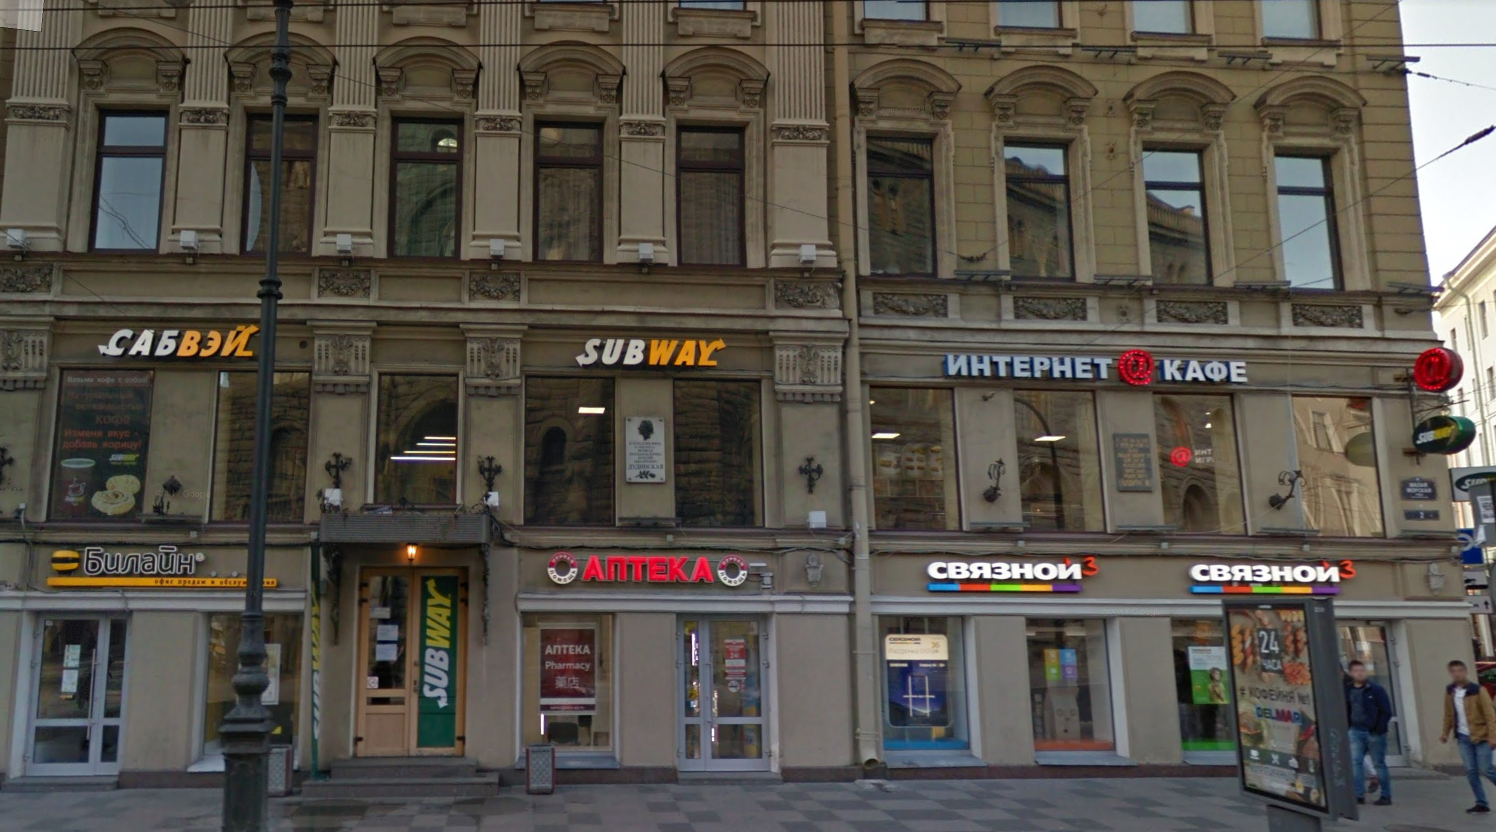cantilever: (1389, 337, 1479, 475)
door: (356, 565, 462, 760), (20, 608, 123, 785), (678, 610, 773, 777)
signboard: (50, 532, 283, 602), (945, 342, 1257, 390), (535, 535, 765, 599), (916, 546, 1111, 607), (1183, 546, 1357, 602), (90, 308, 264, 361), (564, 328, 728, 370)
window: (45, 360, 151, 524), (208, 366, 313, 529), (668, 370, 765, 533), (1019, 616, 1122, 768), (874, 606, 972, 760), (522, 606, 614, 766), (1151, 394, 1251, 541), (528, 373, 619, 530), (1019, 387, 1112, 535), (867, 382, 960, 527), (1292, 396, 1388, 532), (240, 100, 318, 257), (671, 119, 748, 273), (376, 367, 459, 508), (1274, 143, 1346, 295), (88, 100, 161, 249), (868, 130, 940, 281), (537, 110, 605, 265), (389, 115, 460, 262), (1145, 140, 1213, 289), (1003, 140, 1071, 278)
